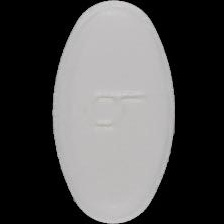69189-0899: (0, 0, 224, 224)
